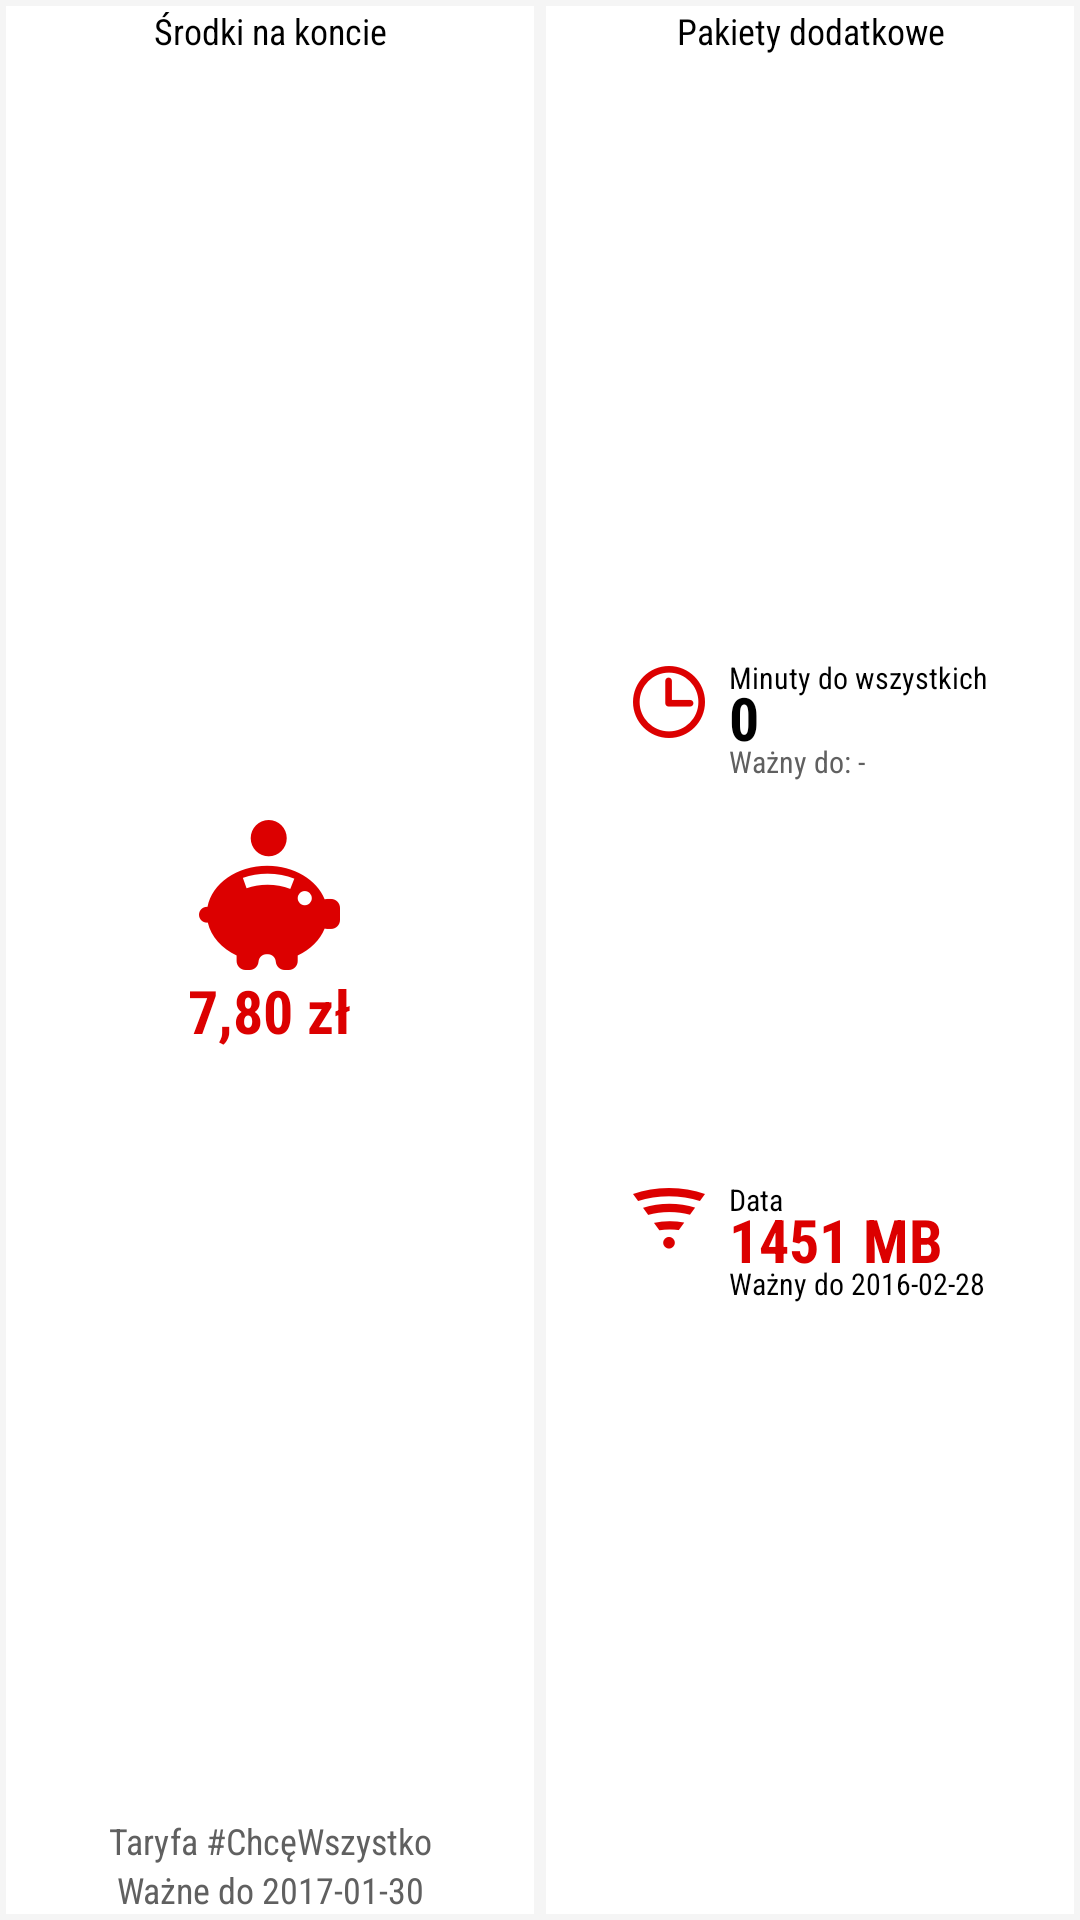

Point at icon controls on the screen. Image size 1080px x 1920px, points as [x,y].
piggy: [269,895]
